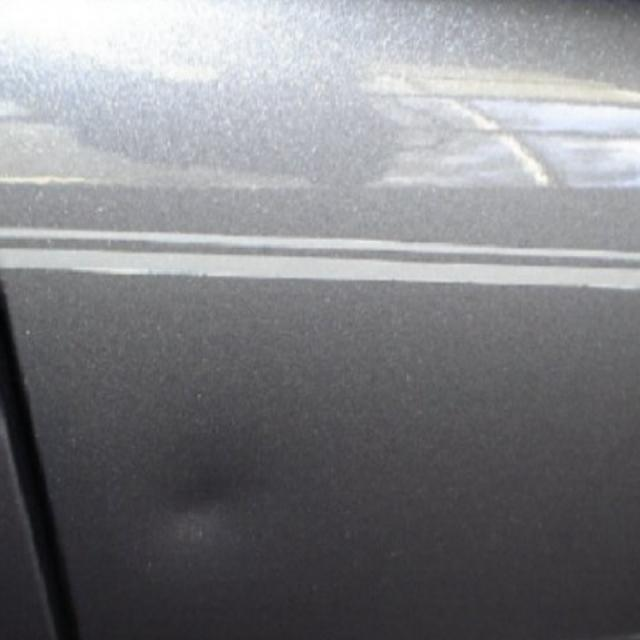dents: (146, 438, 253, 584)
